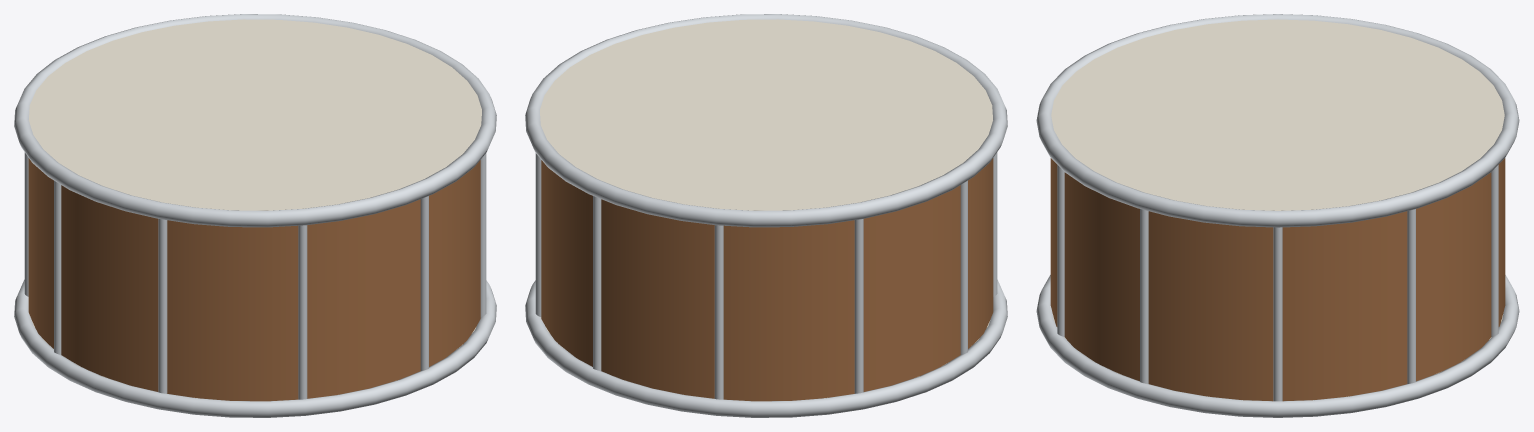
The model's file is wp-caisse-claire.glb.
3 renders of one model, left to right at view 1: azimuth 30°, elevation 25°; view 2: azimuth 150°, elevation 25°; view 3: azimuth 270°, elevation 25°, orthographic.
Parts seen in each view (by area): view 1: wp-caisse-claire; view 2: wp-caisse-claire; view 3: wp-caisse-claire.
Boxes of the visible parts, x1,y1,x2,y2 form: wp-caisse-claire: (14, 14, 496, 417); wp-caisse-claire: (525, 14, 1007, 417); wp-caisse-claire: (1036, 14, 1519, 417).
Size of the model in its own units: 0.36 by 0.17 by 0.36.
